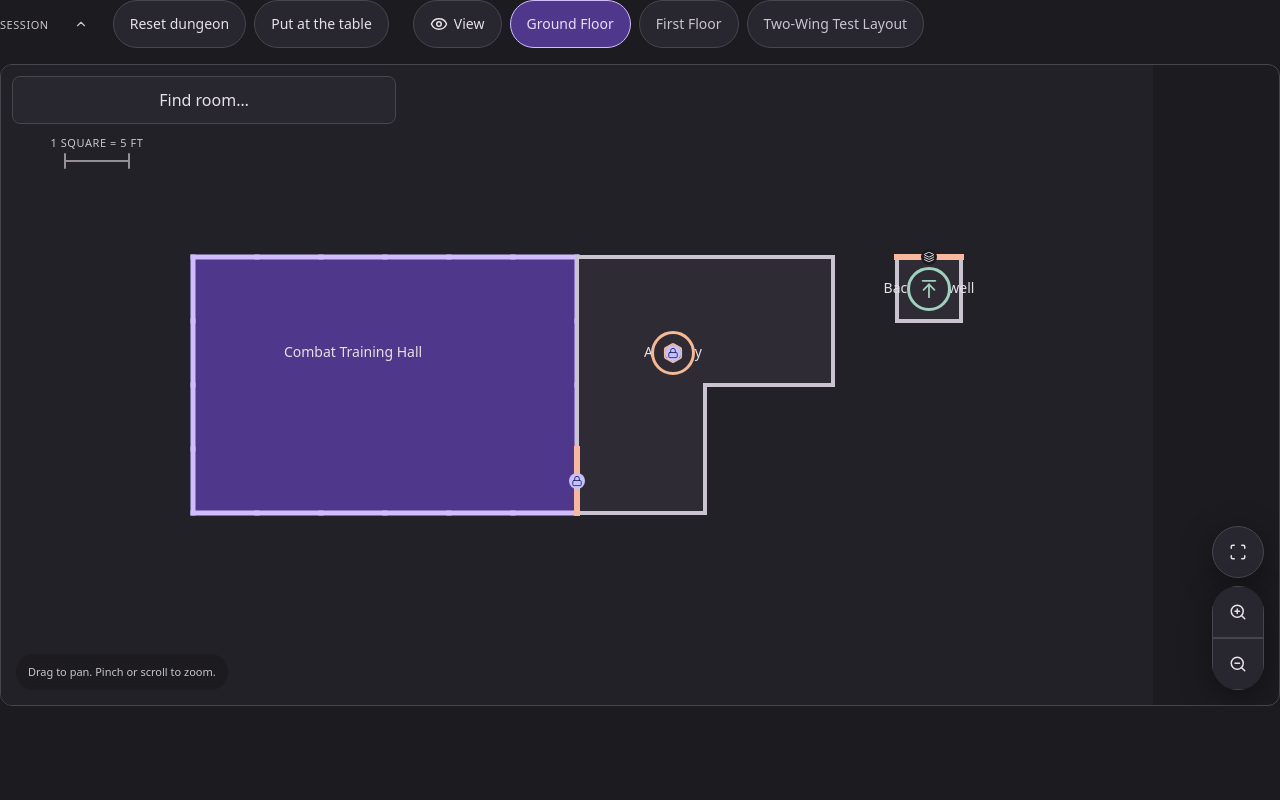
Test: MapLabPage (Stage 03 — viewer status chip action failures) › shows reset failure copy in the canvas status chip when session DELETE rejects
The width and height of the screenshot is (1280, 800).
Click the button "Reset dungeon" at (180, 24), box [113,0,246,48]
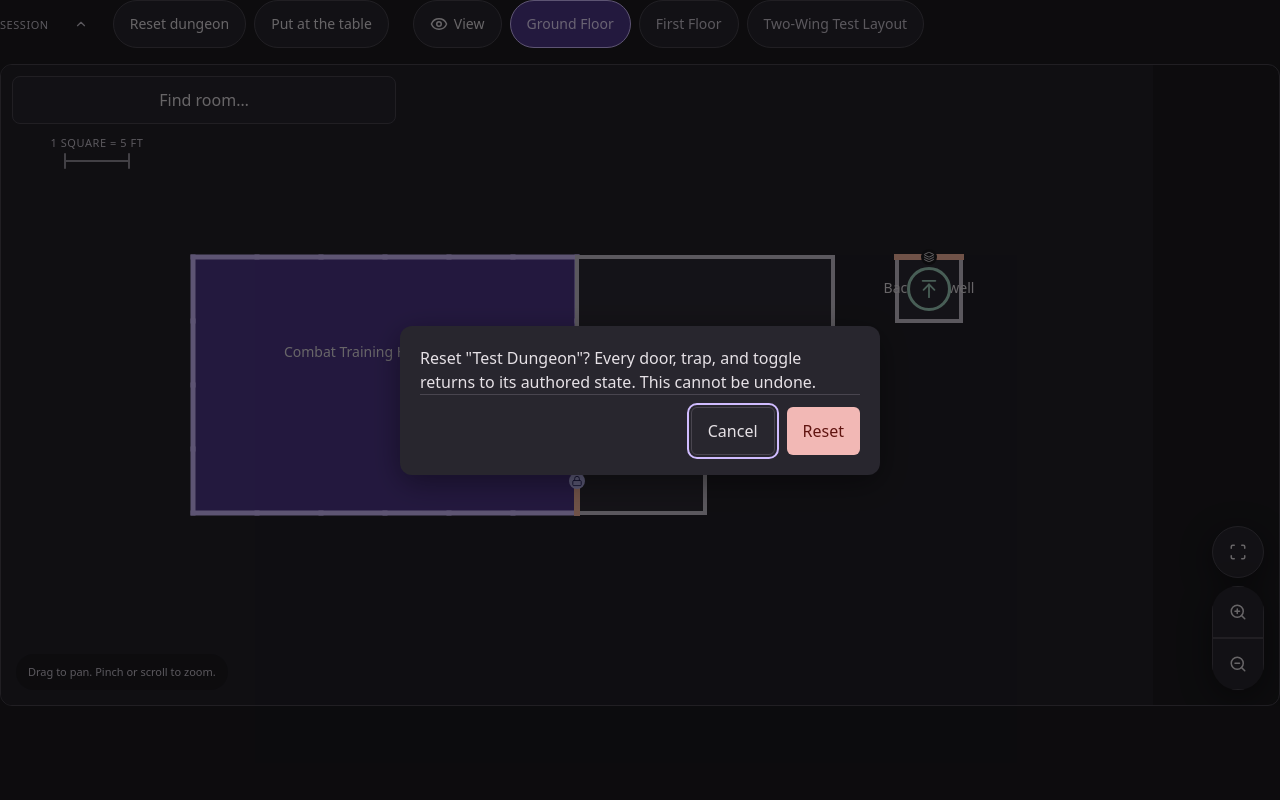
Click the button "Reset" at (823, 430), box [786,406,860,454]
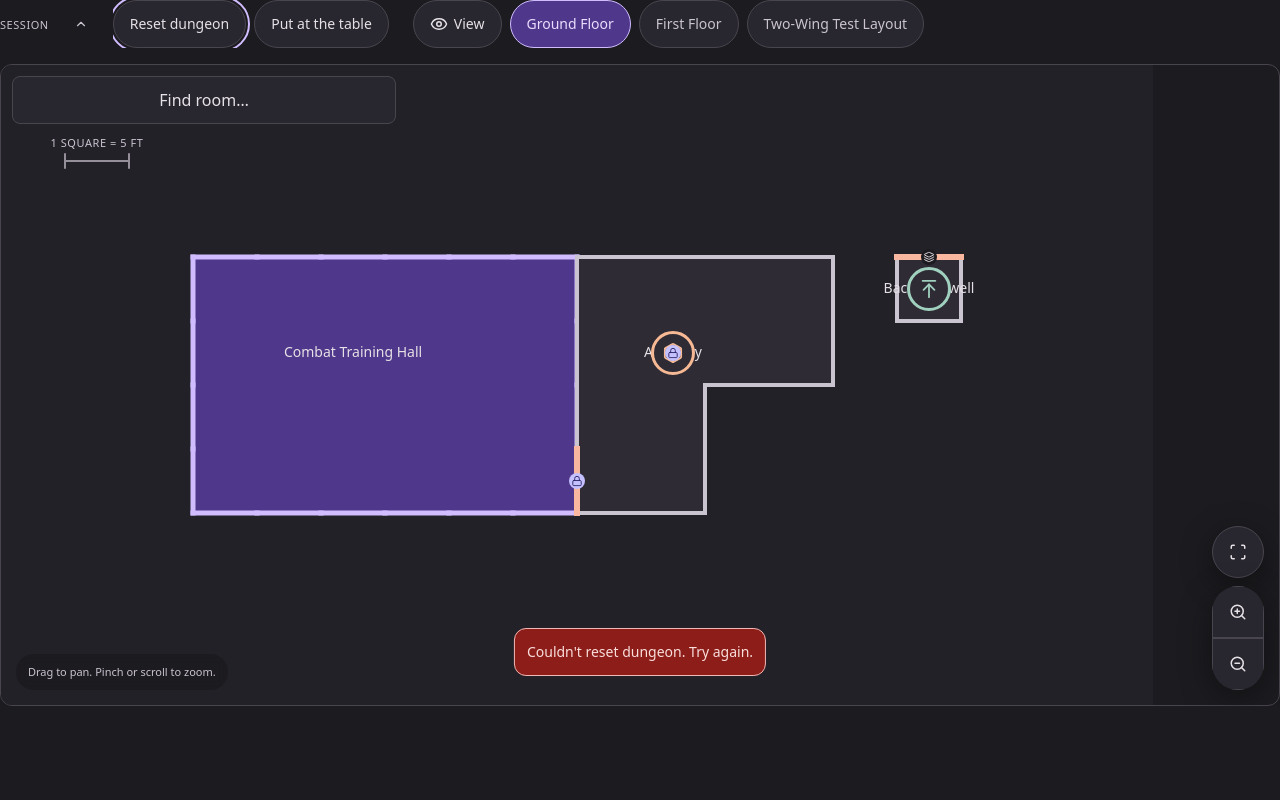
Expected: the text "Couldn't reset dungeon. Try again." is shown, [514,628,766,676]
